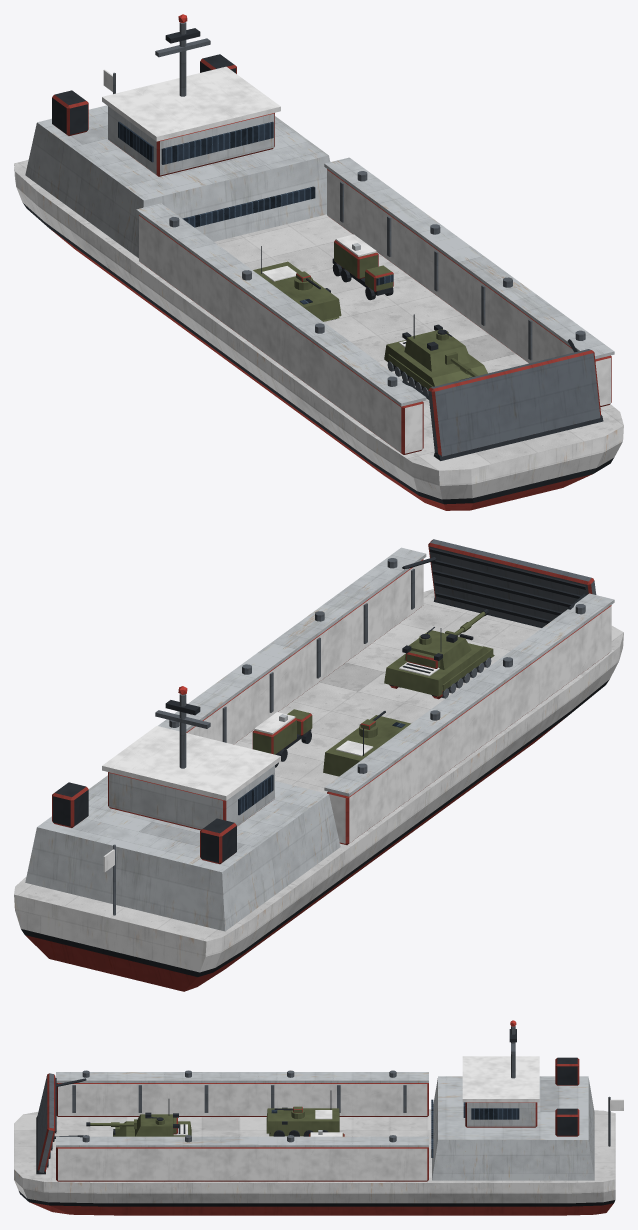
File: transport.gltf
The picture shows the model from 3 angles, top to bottom: view 1: azimuth 30°, elevation 25°; view 2: azimuth 150°, elevation 25°; view 3: azimuth 270°, elevation 25°; orthographic projection. The views are drawn at different scales.
Parts seen in each view (by area): view 1: Transport; view 2: Transport; view 3: Transport.
Boxes of the visible parts, box(x1,y1,x2,y2) form: Transport: box(14, 14, 623, 510); Transport: box(14, 539, 623, 991); Transport: box(14, 1020, 623, 1215).
Bounding box in the file's own units: 0.29 × 0.311 × 1.01.
Materials: 11 (10 with a texture image).
